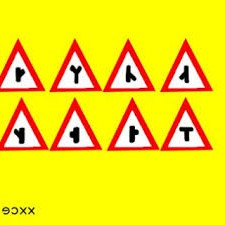Fork_road: (105, 98, 160, 153), (161, 38, 212, 94), (50, 96, 101, 151), (106, 38, 155, 95), (52, 38, 101, 93), (161, 99, 213, 150), (1, 96, 48, 151), (1, 37, 47, 92)
